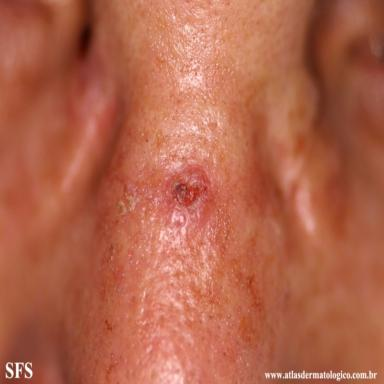basal-cell-carcinoma: (163, 164, 211, 214)
